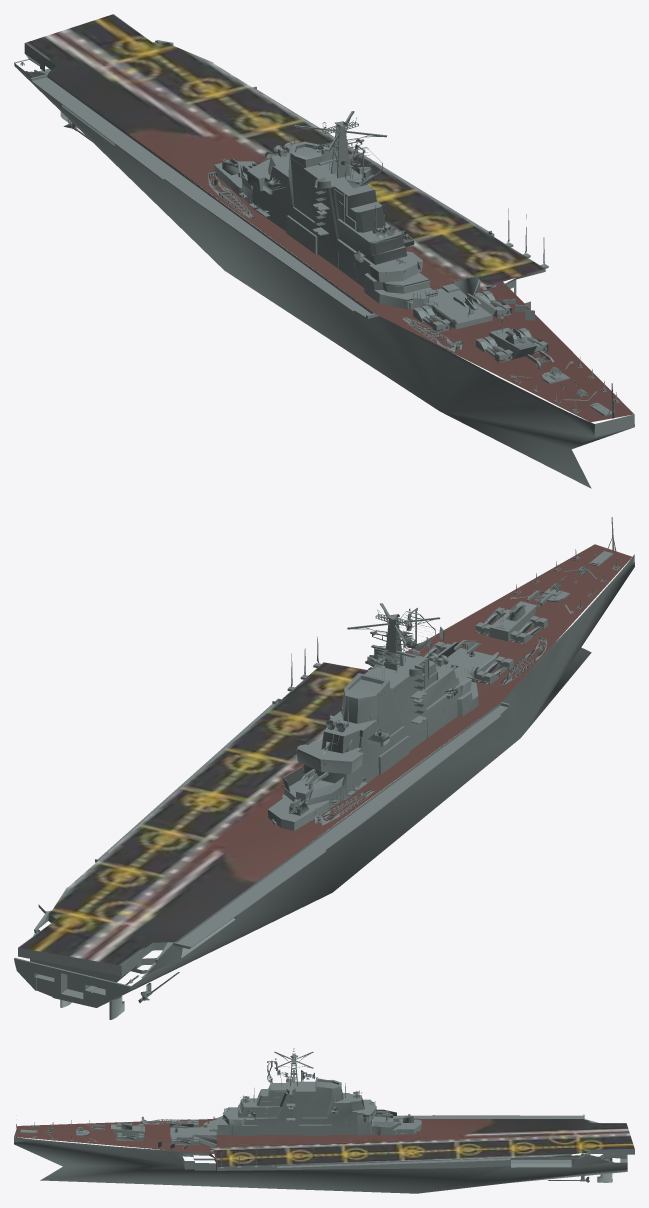
Rendered from AircraftCarrier.glb.
3 renders of one model, top to bottom at view 1: azimuth 30°, elevation 25°; view 2: azimuth 150°, elevation 25°; view 3: azimuth 270°, elevation 25°, orthographic. The views are drawn at different scales.
Visible parts, largest first — view 1: AircraftCarrier; view 2: AircraftCarrier; view 3: AircraftCarrier.
Boxes of the visible parts, left/top/right/bottom form: AircraftCarrier: left=14, top=14, right=634, bottom=488; AircraftCarrier: left=14, top=517, right=634, bottom=1019; AircraftCarrier: left=14, top=1048, right=634, bottom=1193.
Size of the model in its own units: 0.0104 by 0.0109 by 0.0499.
1 material, 1 textured.
